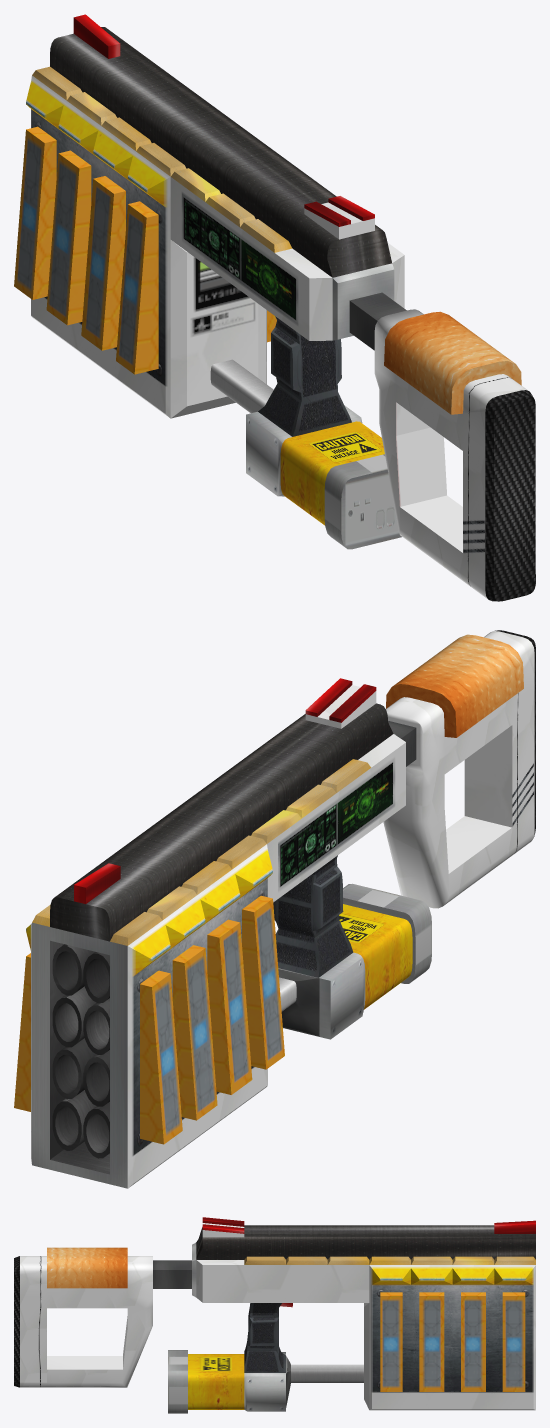
3 renders of one model, top to bottom at view 1: azimuth 30°, elevation 25°; view 2: azimuth 150°, elevation 25°; view 3: azimuth 270°, elevation 25°, orthographic. The views are drawn at different scales.
Visible parts, largest first — view 1: Shotgun01; view 2: Shotgun01; view 3: Shotgun01.
Part boxes in pixels (box(x1,y1,x2,y2)): Shotgun01: box(14, 14, 535, 601); Shotgun01: box(14, 630, 535, 1188); Shotgun01: box(14, 1217, 535, 1413).
Size of the model in its own units: 31.61 by 60.85 by 159.
1 material, 1 textured.
